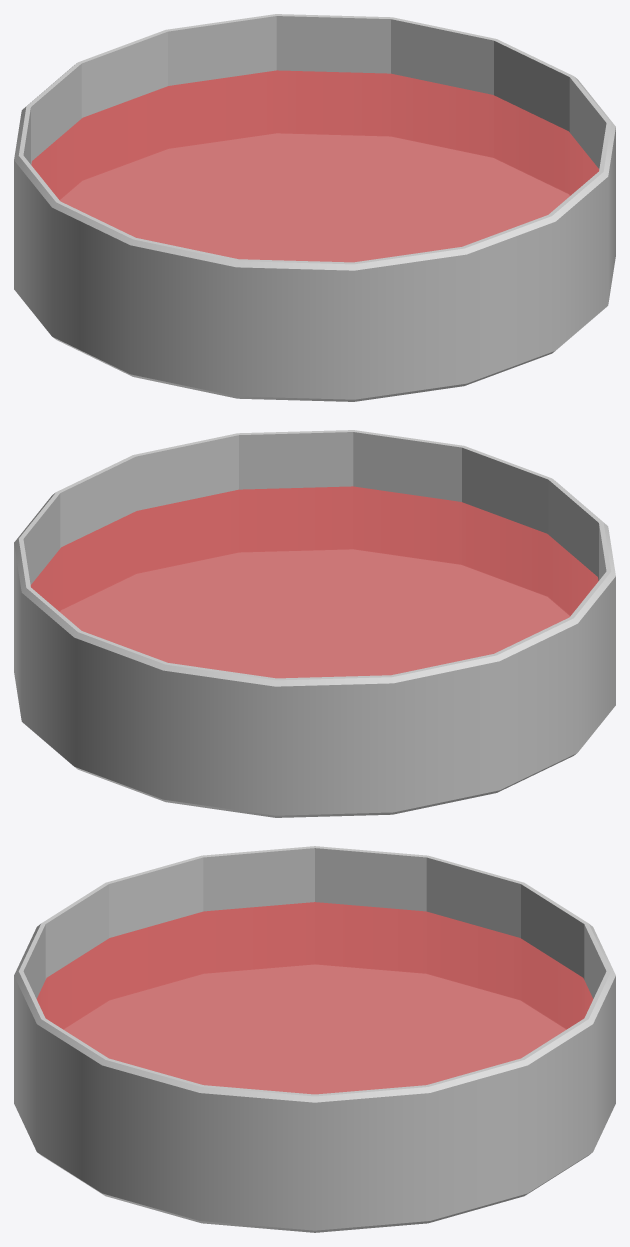
Rendered from Heal_point_San.fbx.
The picture shows the model from 3 angles, top to bottom: view 1: azimuth 30°, elevation 25°; view 2: azimuth 150°, elevation 25°; view 3: azimuth 270°, elevation 25°; orthographic projection.
Visible parts, largest first — view 1: petri_dish_S, acid; view 2: petri_dish_S, acid; view 3: petri_dish_S, acid.
Part boxes in pixels (bbox=[...]): petri_dish_S: bbox=[14, 14, 615, 401]; acid: bbox=[31, 70, 599, 262]; petri_dish_S: bbox=[14, 430, 615, 817]; acid: bbox=[30, 486, 598, 678]; petri_dish_S: bbox=[14, 846, 615, 1232]; acid: bbox=[36, 902, 593, 1094].
Bounding box in the file's own units: 80 × 20 × 80.
